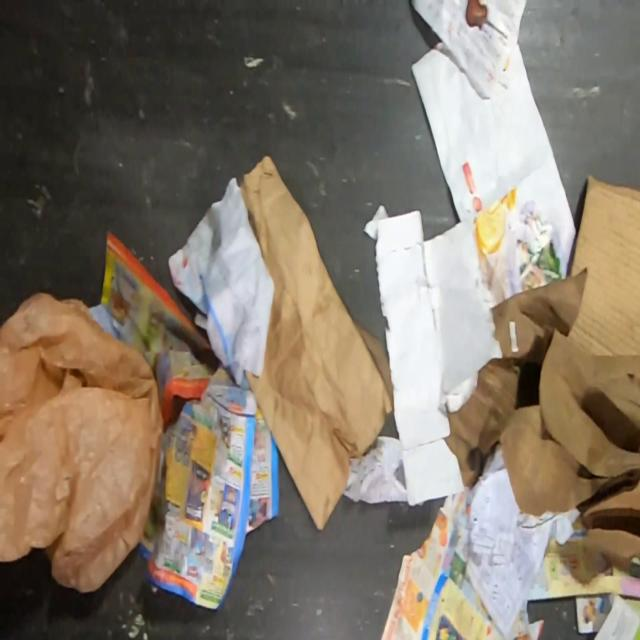cardboard: (374, 209, 640, 573), (238, 156, 393, 534), (374, 209, 465, 506), (565, 171, 640, 355)
soft_plastic: (0, 291, 164, 593)
